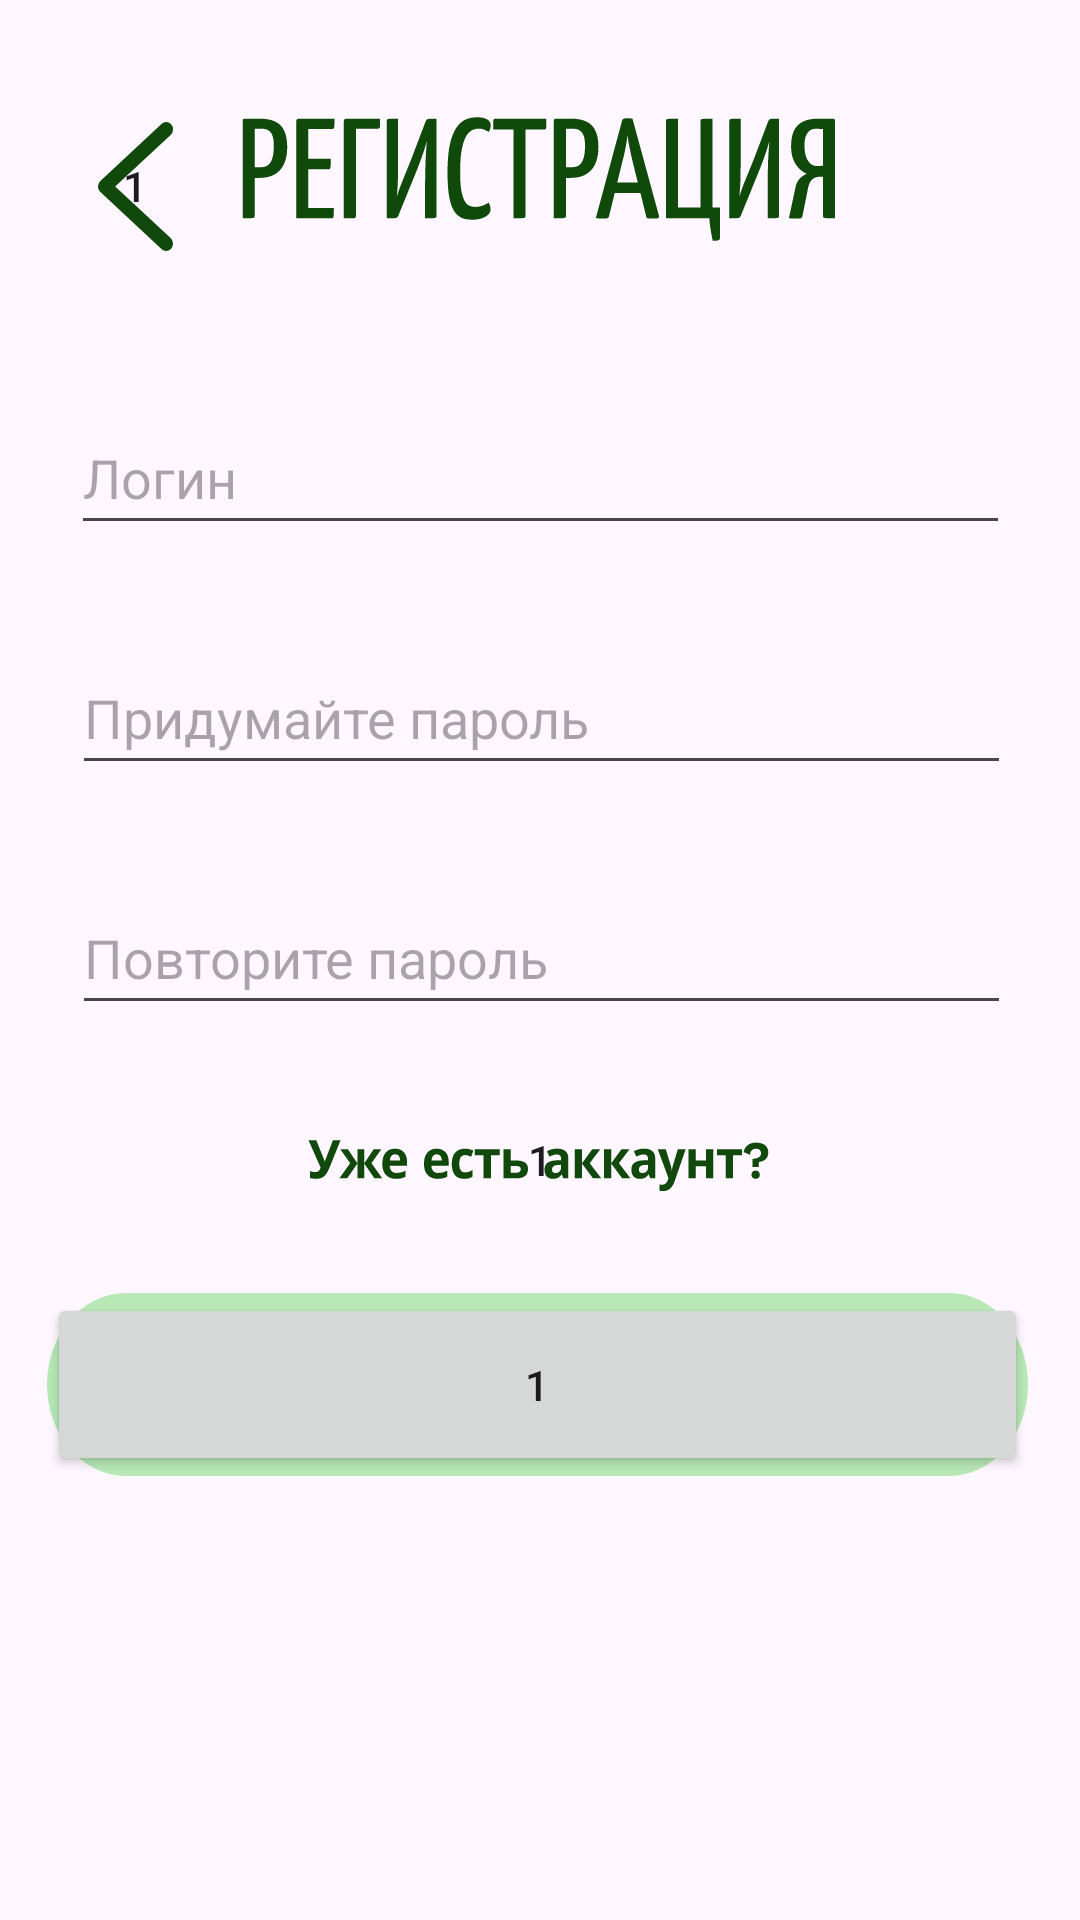

Icon bounding boxes for this 1080px x 1920px phone screenshot, format region(x1, y1, x2, y2):
back: region(98, 122, 173, 251)
